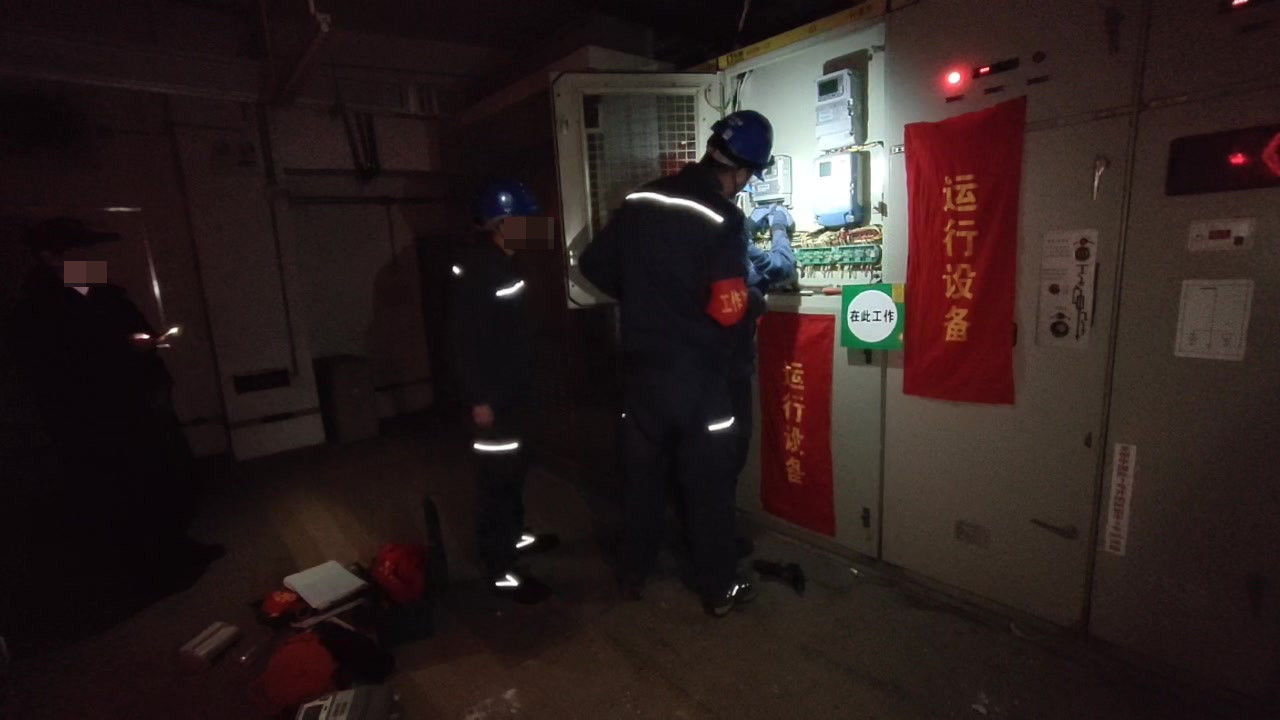badge: (707, 277, 750, 330)
downsuit: (610, 385, 745, 593), (469, 397, 536, 575)
halt: (700, 111, 776, 187), (482, 184, 539, 249)
hand: (472, 402, 497, 435)
inear: (729, 161, 763, 202), (493, 211, 517, 245)
person: (590, 109, 802, 620), (55, 218, 240, 569), (437, 179, 569, 615)
unhalt: (58, 227, 116, 285)
upsuit: (590, 178, 757, 376), (449, 248, 552, 403)
worksign: (837, 280, 908, 349)
